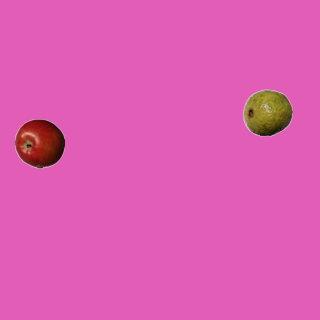Apple Braeburn: (14, 118, 64, 168)
Guava: (242, 87, 292, 137)
